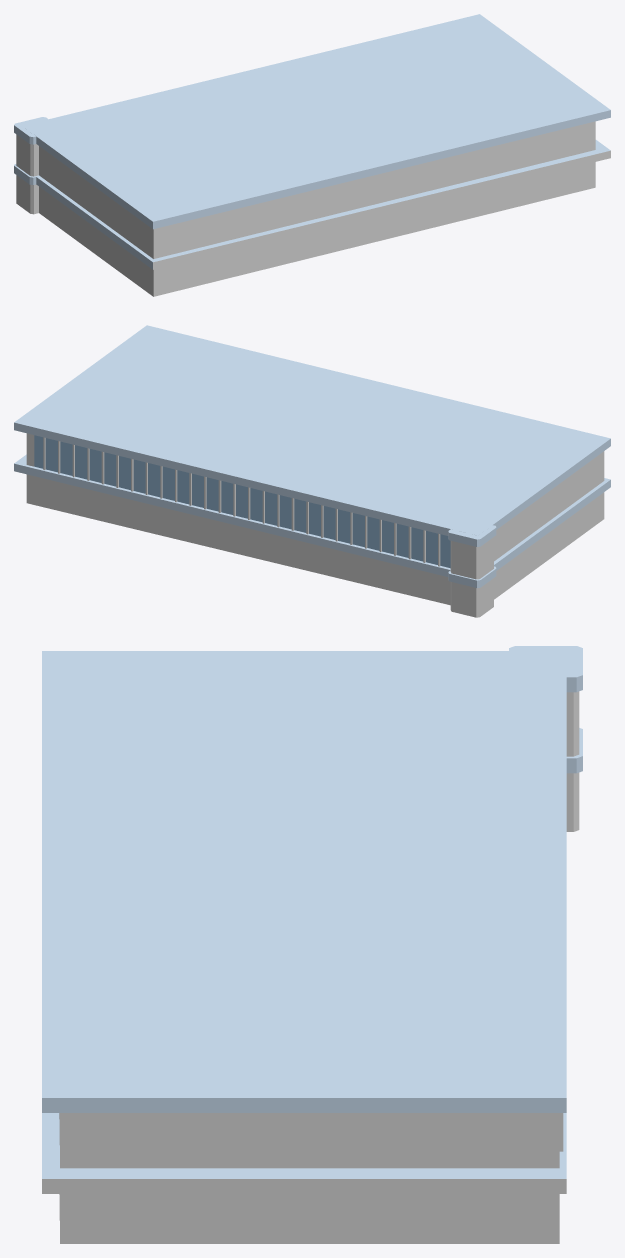
Rendered from GSC-Building 2.fbx.
The picture shows the model from 3 angles, top to bottom: view 1: azimuth 30°, elevation 25°; view 2: azimuth 150°, elevation 25°; view 3: azimuth 270°, elevation 25°; orthographic projection. The views are drawn at different scales.
Visible parts, largest first — view 1: 立方体; view 2: 立方体; view 3: 立方体.
Part boxes in pixels (box(x1,y1,x2,y2)): 立方体: box(14, 14, 610, 296); 立方体: box(14, 325, 610, 617); 立方体: box(42, 646, 582, 1243).
Size of the model in its own units: 6422 by 1037 by 3247.
